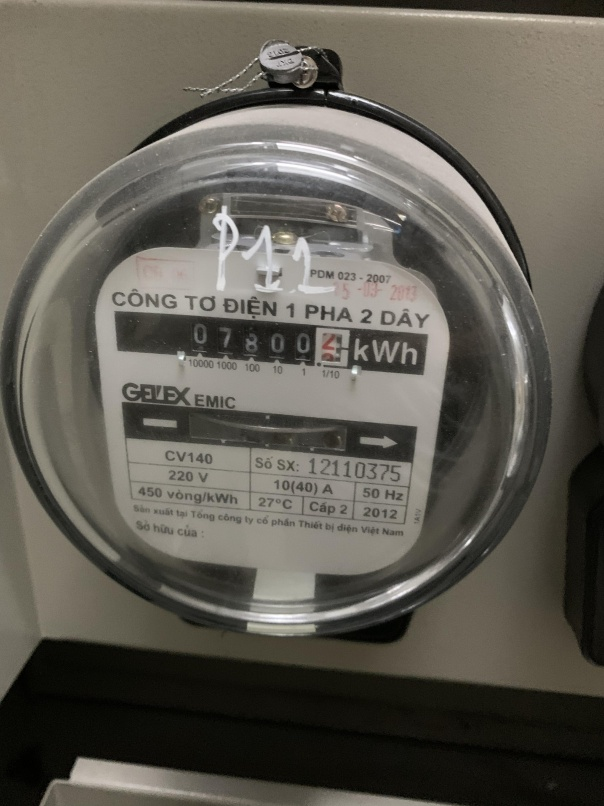counter: (116, 312, 430, 378)
electricity_meter: (4, 129, 543, 640)
